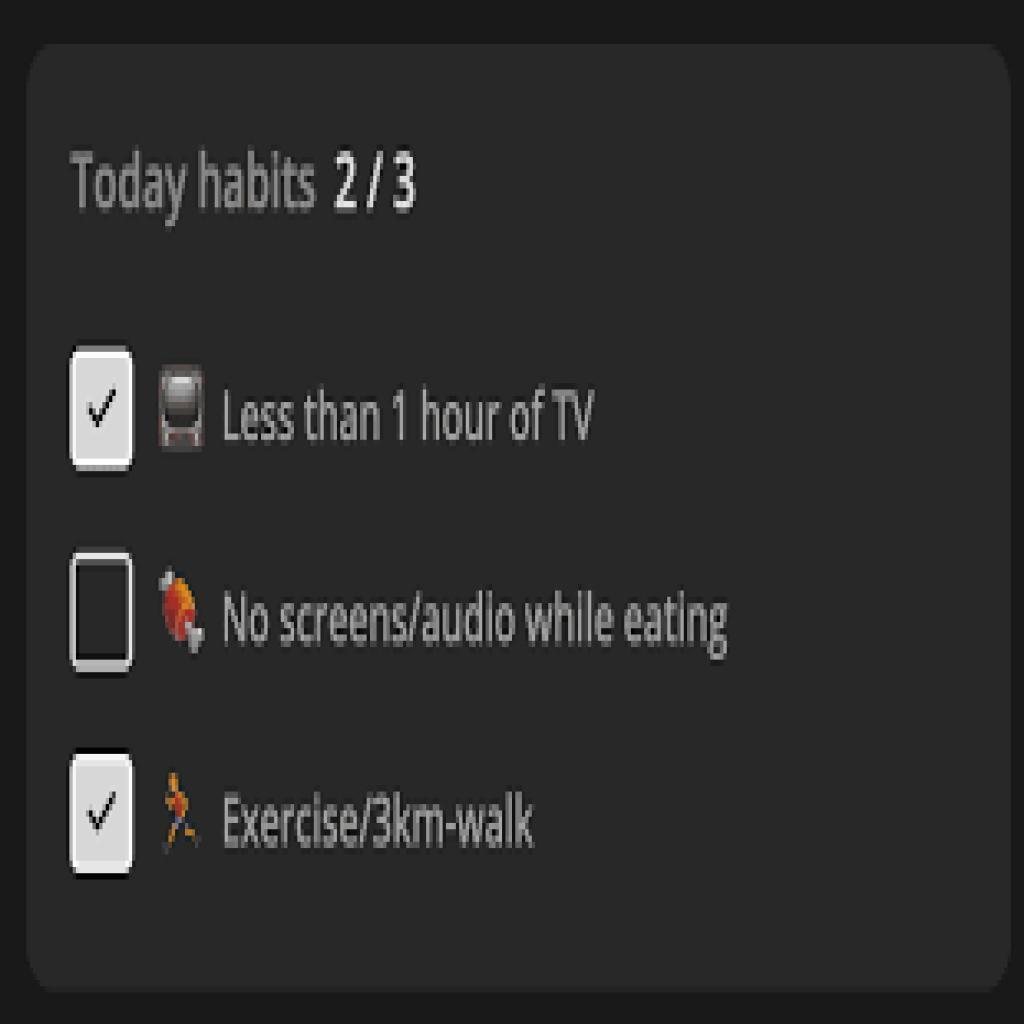checkbox: (69, 343, 137, 471), (72, 755, 132, 874), (73, 560, 132, 662)
